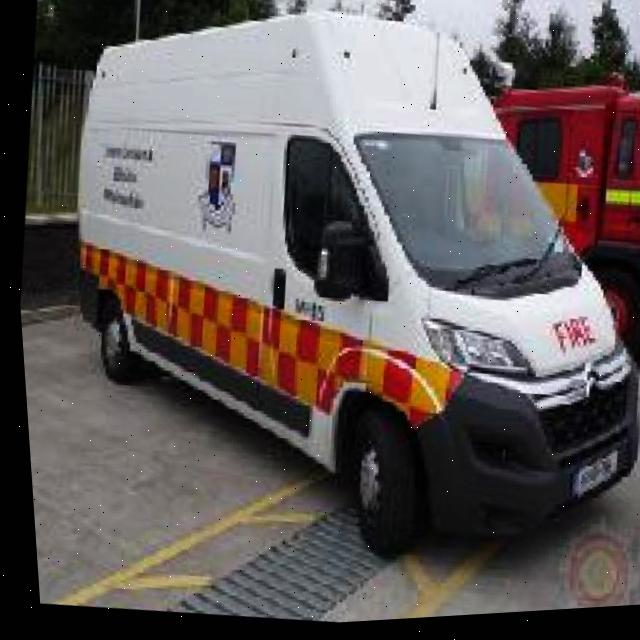emergency: (17, 0, 640, 603)
